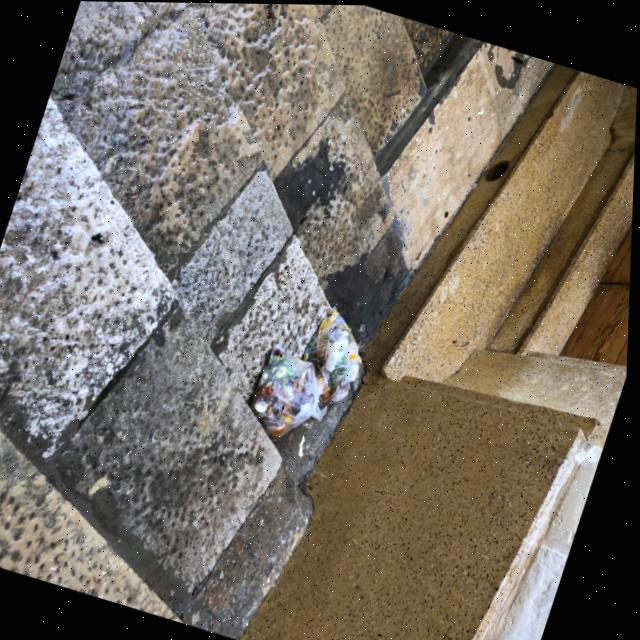Organic Waste -White Bag-: (240, 341, 334, 453), (291, 301, 380, 417)
